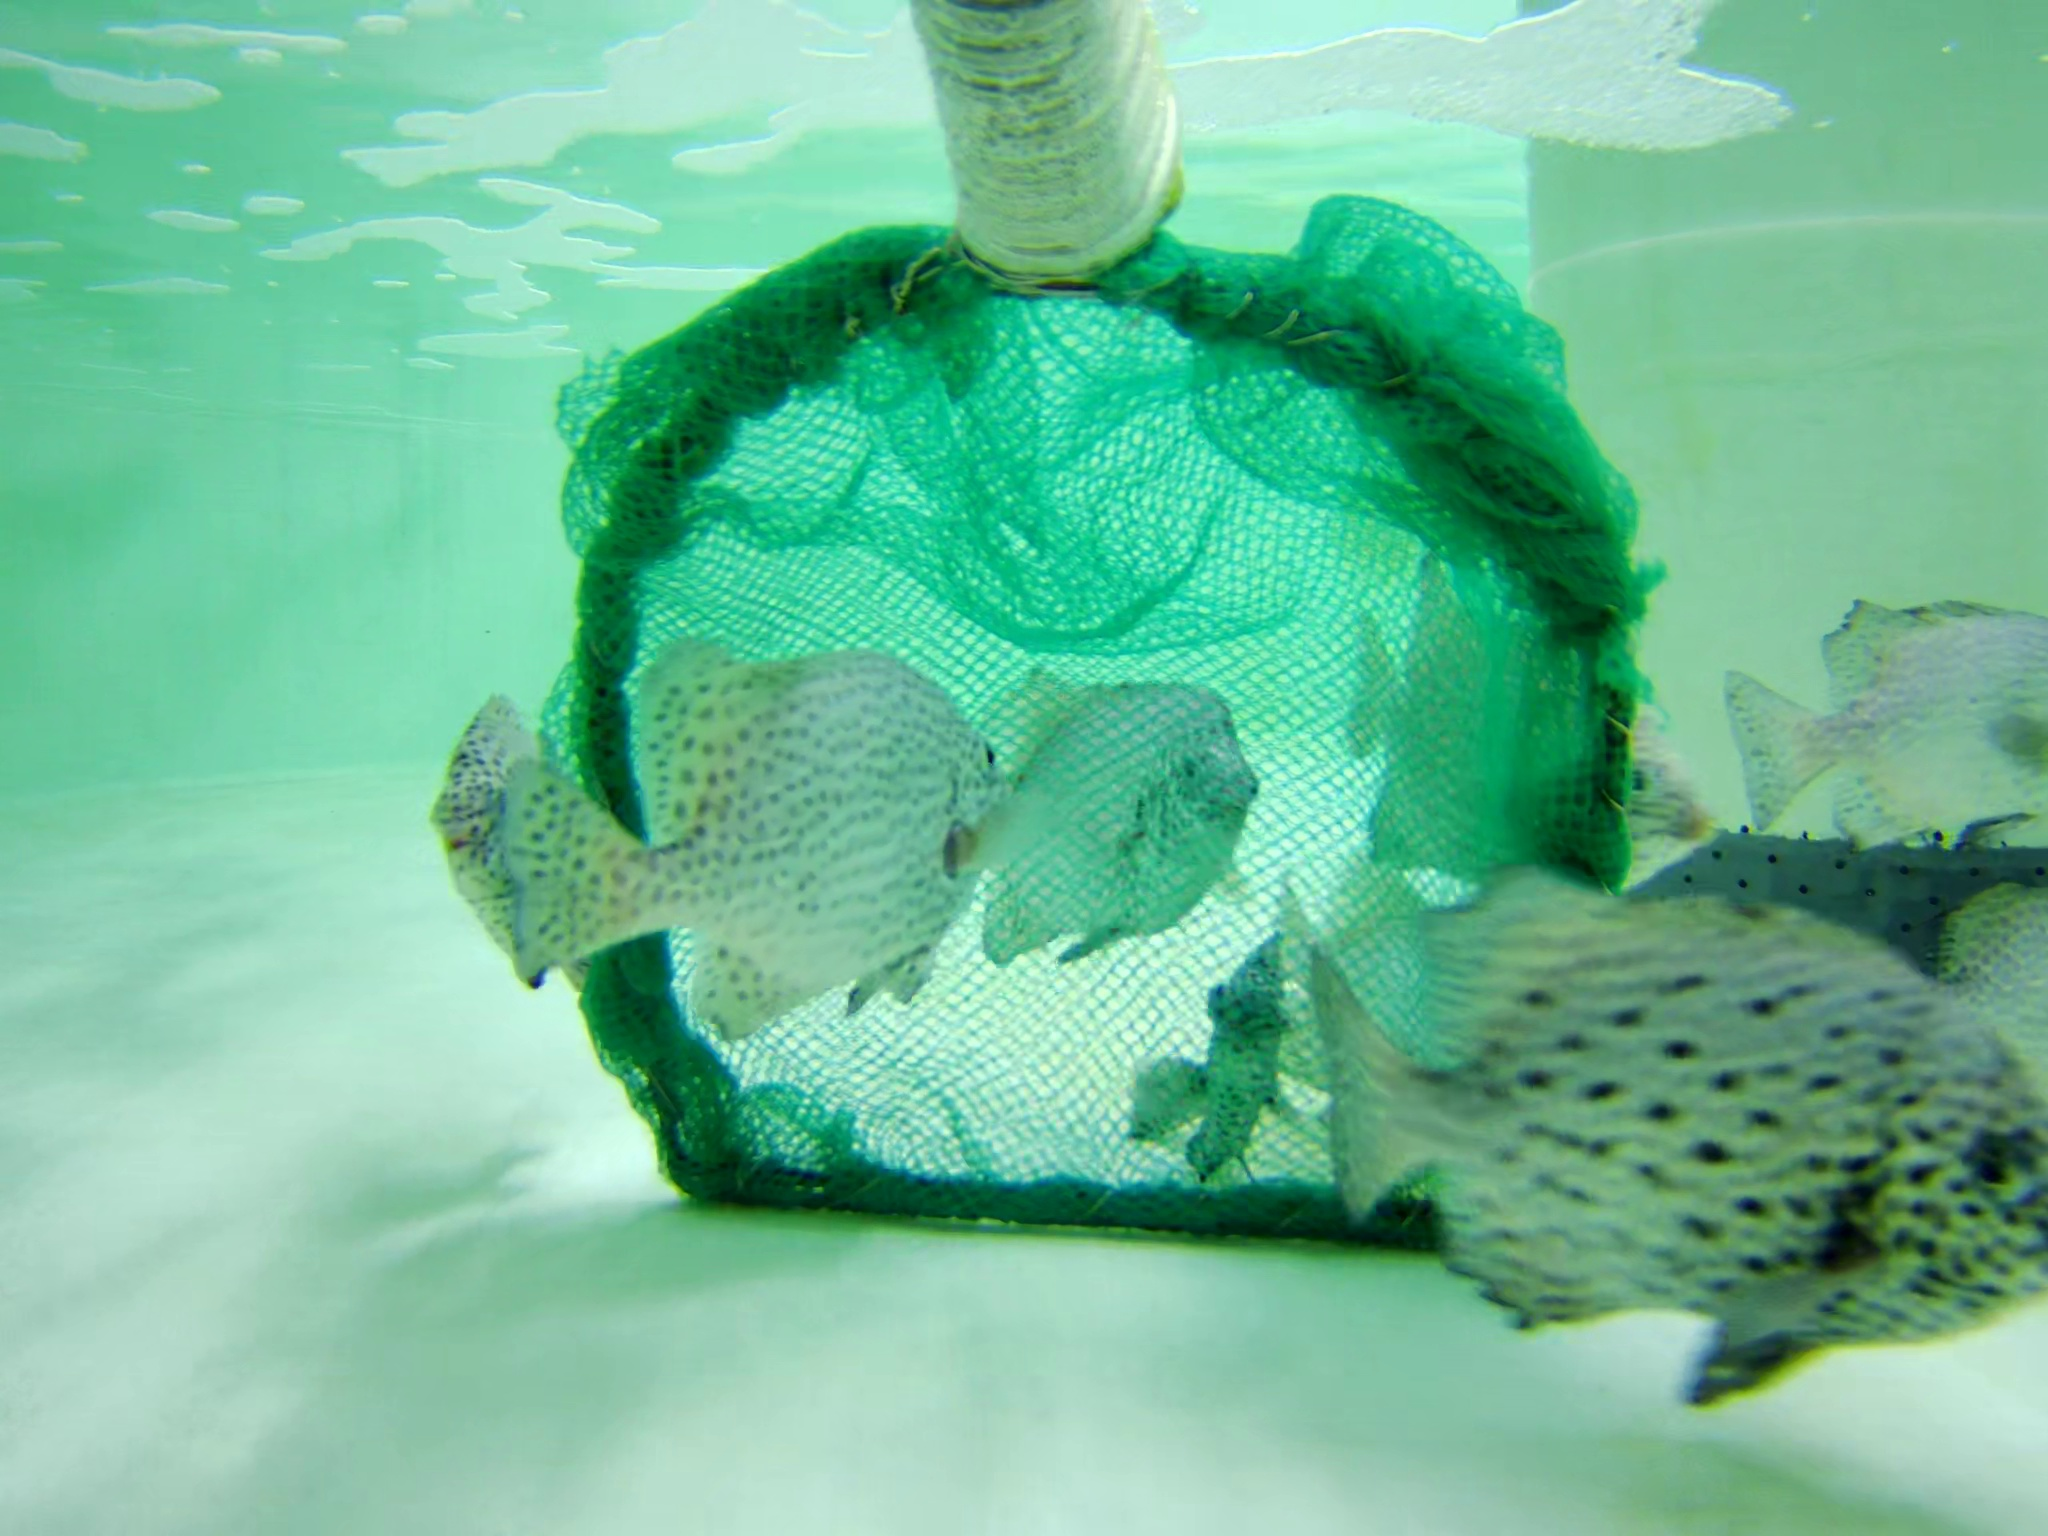fish: (1285, 886, 2048, 1376), (492, 649, 992, 1062), (1330, 557, 1696, 862), (1719, 589, 2048, 855), (966, 652, 1251, 945), (1277, 831, 1472, 1160), (1103, 910, 1277, 1192), (431, 689, 566, 981)
